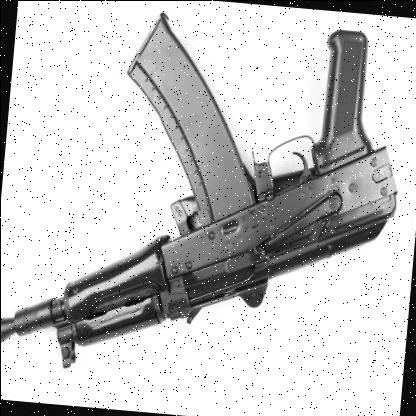rifle: (0, 0, 416, 381)
